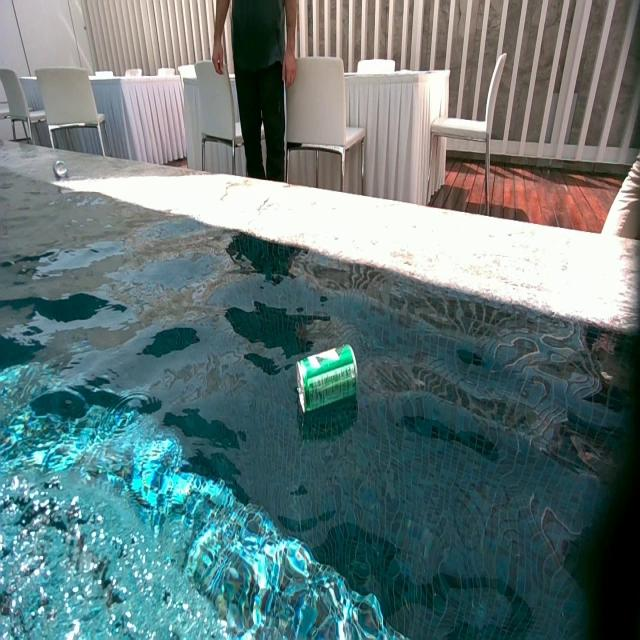Cans: (295, 344, 355, 416), (55, 161, 67, 178)
